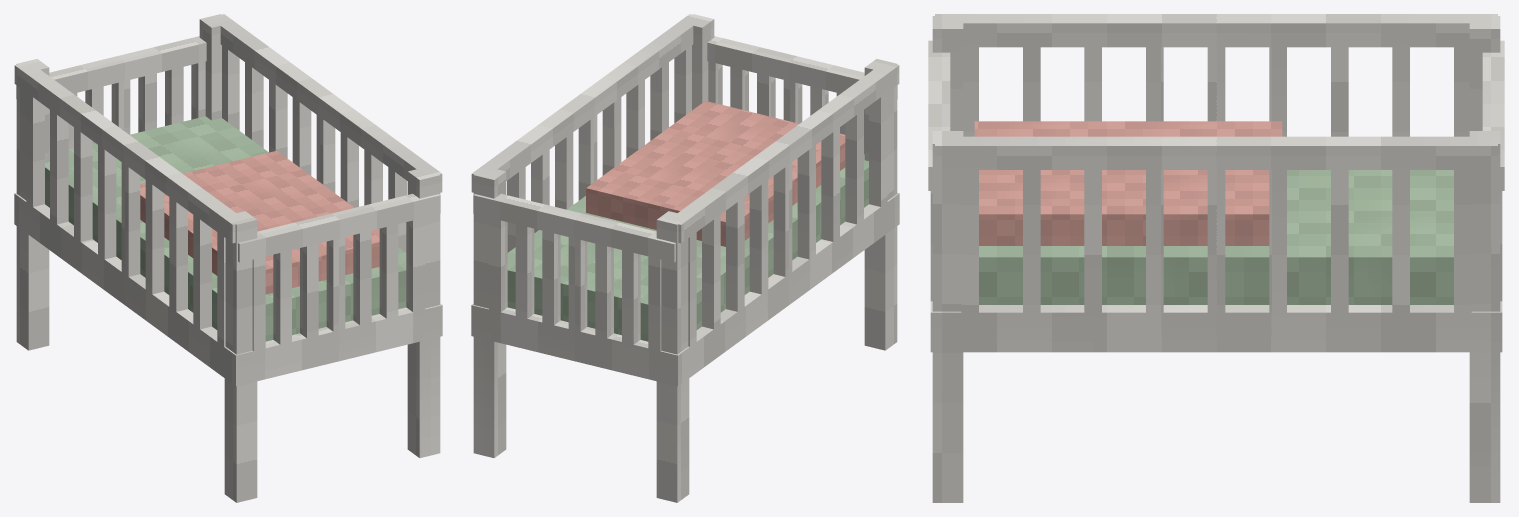
File: pixel-modern-apartments-crib-f0b5cc79__29847.glb
The picture shows the model from 3 angles, left to right: view 1: azimuth 30°, elevation 25°; view 2: azimuth 150°, elevation 25°; view 3: azimuth 270°, elevation 25°; orthographic projection. The views are drawn at different scales.
Visible parts, largest first — view 1: crib; view 2: crib; view 3: crib.
Part boxes in pixels (bbox=[...]): crib: bbox=[14, 14, 442, 502]; crib: bbox=[471, 14, 899, 502]; crib: bbox=[928, 14, 1504, 502].
Bounding box in the file's own units: 0.71 × 0.8999 × 1.31.
Materials: 3 (3 with a texture image).
